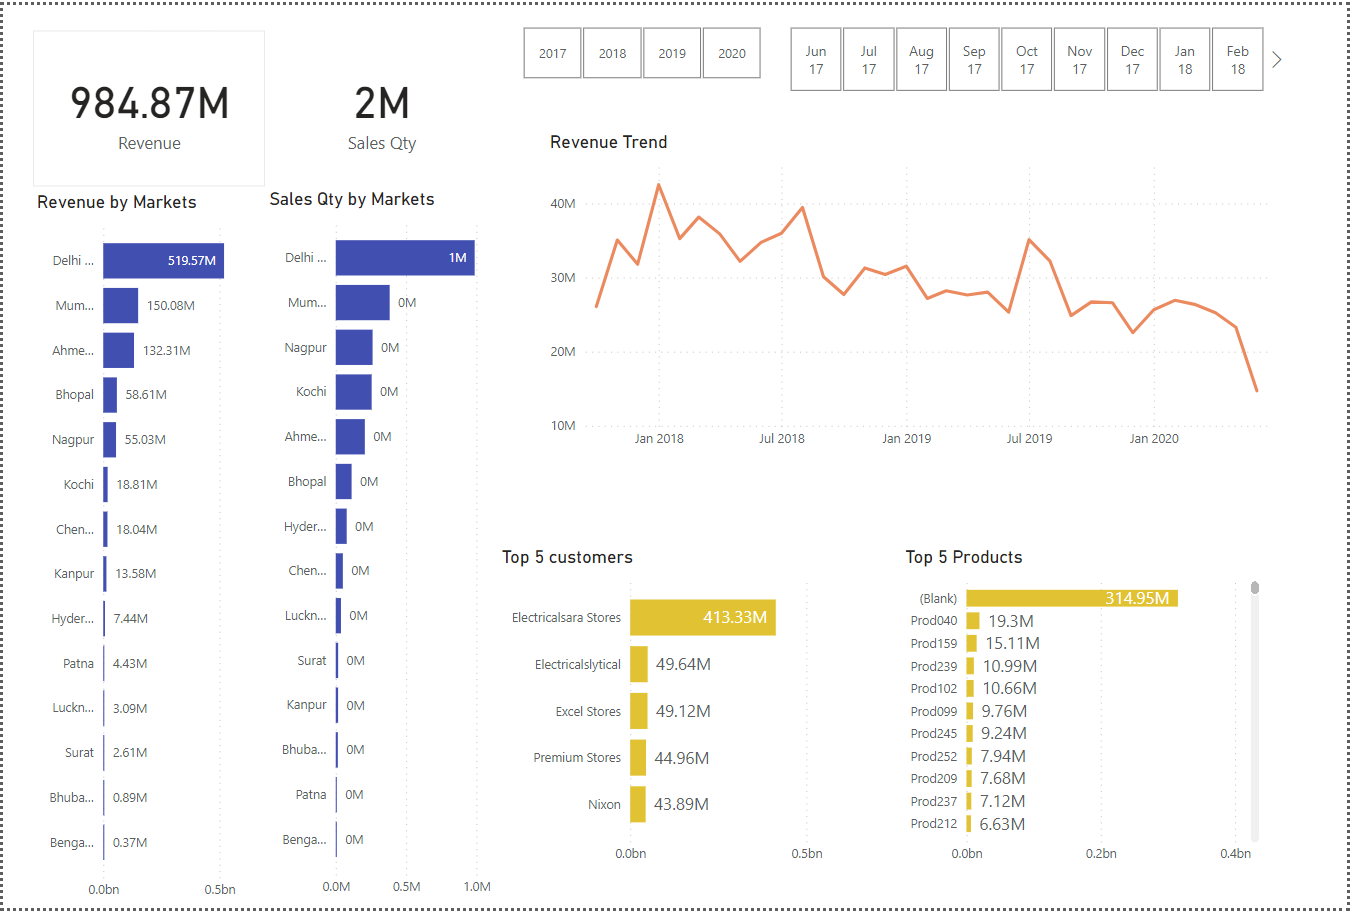

The dashboard page shown, as its layout file describes it:
{"tool":"powerbi","page":{"name":"Page 1","canvas":[1280,860],"ordinal":0},"visuals":[{"type":"card","fields":{"Values":["BaseMeasures.Revenue"]},"box":[28.8,24.2,221.1,148.4],"z":0},{"type":"card","fields":{"Values":["BaseMeasures.Sales Qty"]},"box":[249.8,24.2,221.1,148.4],"z":1000},{"type":"barChart","title":"Revenue by Markets","fields":{"Y":["BaseMeasures.Revenue"],"Category":["sales markets.markets_name"]},"box":[27.6,176.7,220.9,683.3],"z":2000},{"type":"barChart","title":"Sales Qty by Markets","fields":{"Y":["BaseMeasures.Sales Qty"],"Category":["sales markets.markets_name"]},"box":[248.5,173.9,220.9,683.3],"z":3000},{"type":"slicer","fields":{"Values":["sales date.year"]},"box":[469.4,13.6,275.6,62.1],"z":4000},{"type":"slicer","fields":{"Values":["sales date.cy_date"]},"box":[723.8,13.6,499.7,74.2],"z":5000},{"type":"barChart","title":"Top 5 customers","fields":{"Y":["BaseMeasures.Revenue"],"Category":["sales customers.custmer_name"]},"box":[469.4,516.3,348.3,310.4],"z":5001},{"type":"barChart","title":"Top 5 Products","fields":{"Y":["BaseMeasures.Revenue"],"Category":["sales products.product_code"]},"box":[854,516.3,346.8,310.4],"z":5002},{"type":"lineChart","title":"Revenue Trend","fields":{"Y":["BaseMeasures.Revenue"],"Category":["sales date.cy_date.Variation.Date Hierarchy.Year","sales date.cy_date.Variation.Date Hierarchy.Quarter","sales date.cy_date.Variation.Date Hierarchy.Month","sales date.cy_date.Variation.Date Hierarchy.Day"]},"box":[516.3,119.6,707.1,310.4],"z":5003}]}

Visuals, with their boxes in screenshot pixels (x1, y1, x2, y2), scaled from the page's 1280x860 canvas onto the 1354x913 screenshot:
card - BaseMeasures.Revenue: [30, 26, 264, 183]
card - BaseMeasures.Sales Qty: [264, 26, 498, 183]
"Revenue by Markets" barChart: [29, 188, 263, 912]
"Sales Qty by Markets" barChart: [263, 185, 497, 910]
slicer - sales date.year: [497, 14, 788, 80]
slicer - sales date.cy_date: [766, 14, 1294, 93]
"Top 5 customers" barChart: [497, 548, 865, 878]
"Top 5 Products" barChart: [903, 548, 1270, 878]
"Revenue Trend" lineChart: [546, 127, 1294, 456]
